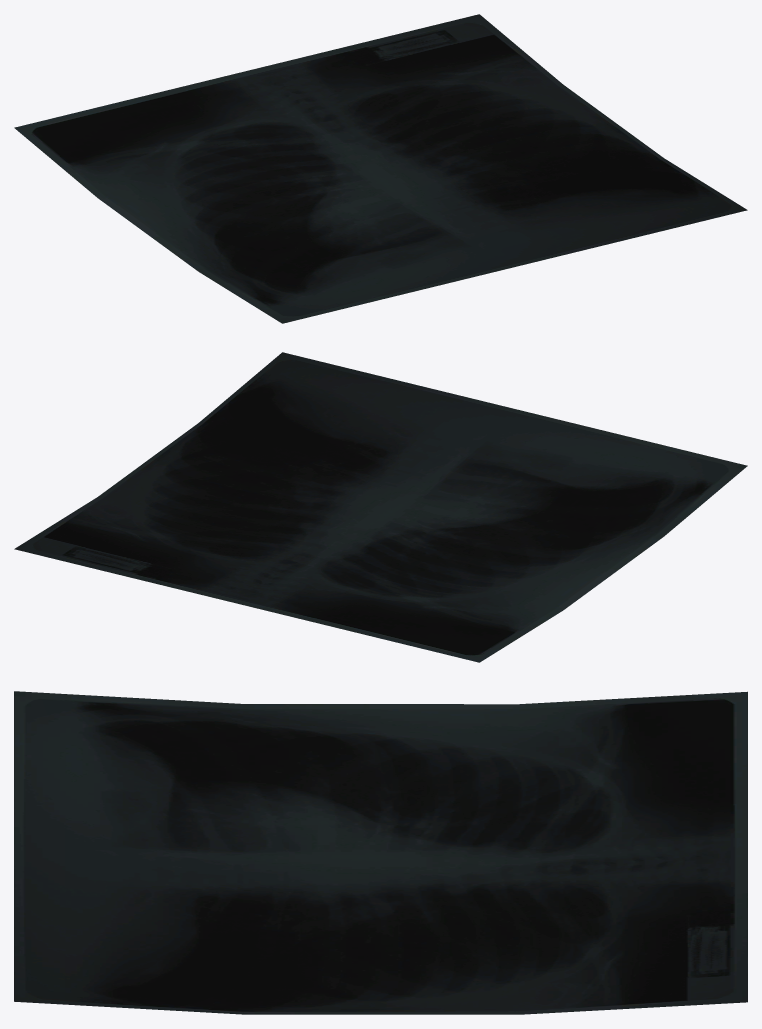
Rendered from xrays_generic_04.dae.
The picture shows the model from 3 angles, top to bottom: view 1: azimuth 30°, elevation 25°; view 2: azimuth 150°, elevation 25°; view 3: azimuth 270°, elevation 25°; orthographic projection. The views are drawn at different scales.
Visible parts, largest first — view 1: 04; view 2: 04; view 3: 04.
Boxes of the visible parts, left/top/right/bottom form: 04: left=14, top=14, right=747, bottom=323; 04: left=14, top=352, right=747, bottom=662; 04: left=14, top=691, right=747, bottom=1014.
Bounding box in the file's own units: 0.25 × 0.00489 × 0.2497.
